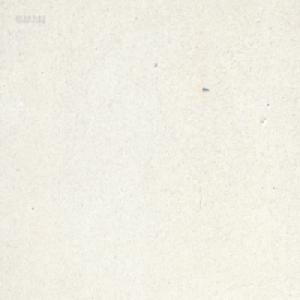Nail: (202, 87, 208, 92)
